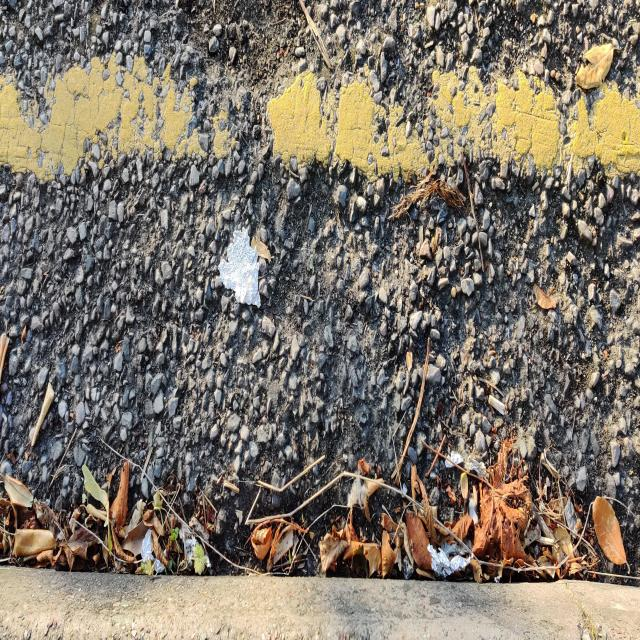litter: (218, 227, 261, 309), (169, 514, 212, 569), (427, 544, 474, 580), (140, 527, 168, 574)
